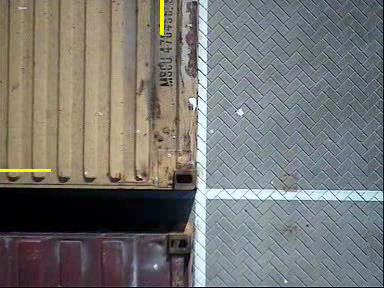groundmarker_2: (197, 132, 269, 249)
